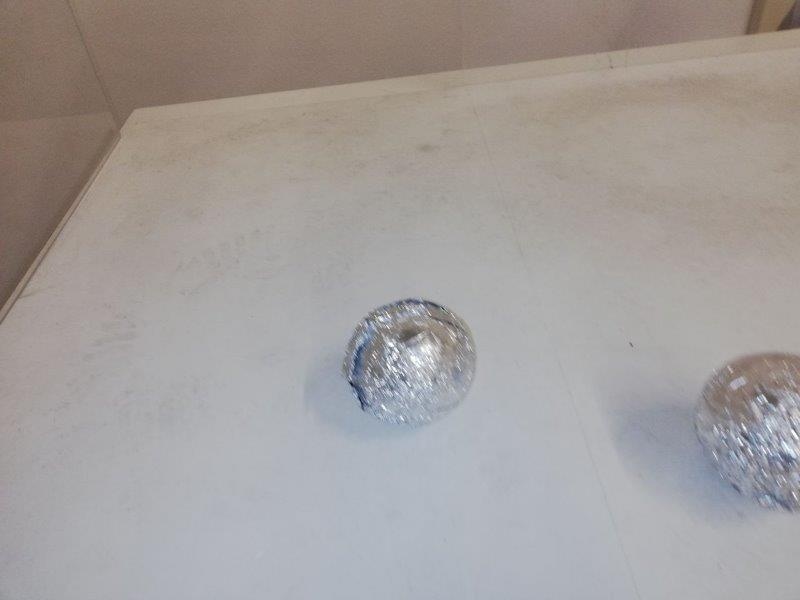bianca: (698, 347, 800, 516), (346, 298, 474, 423)
